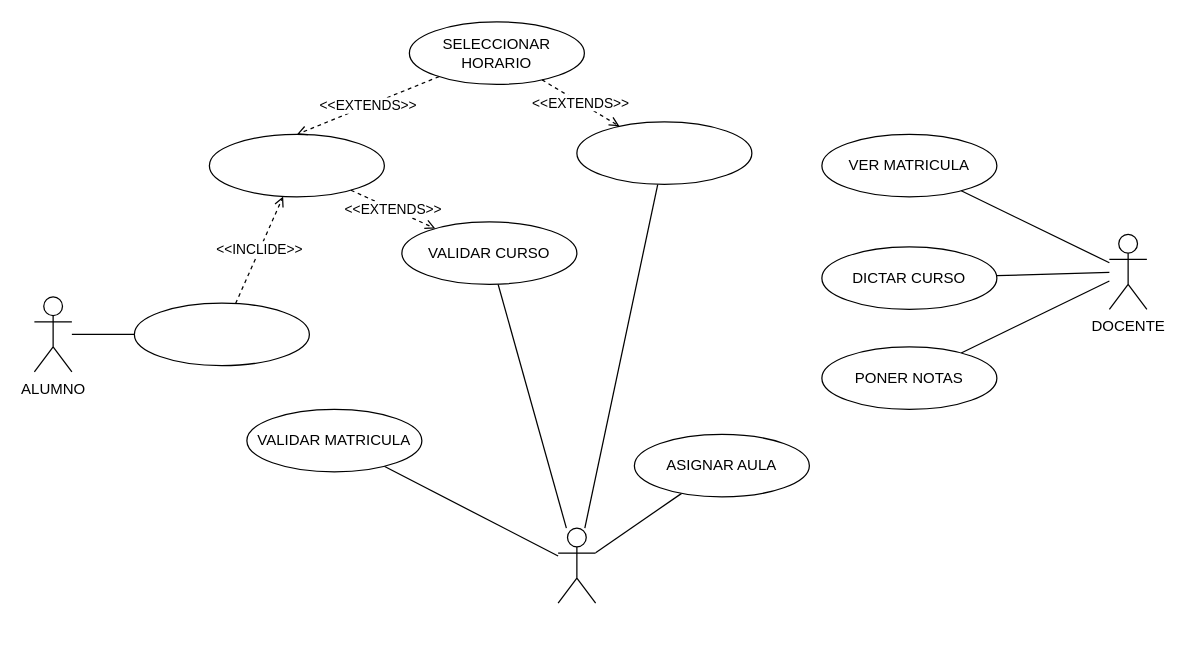
This 1186x651 diagram has some shape labels left out. Here are the shapes that lost their labels. From the top down, the centre of each, then its label:
point 296,165: SELECCIONAR CURSO
point 664,152: VALIDAR HORARIO
point 221,334: MATRICULAR
point 576,565: ADMNISTRACION
